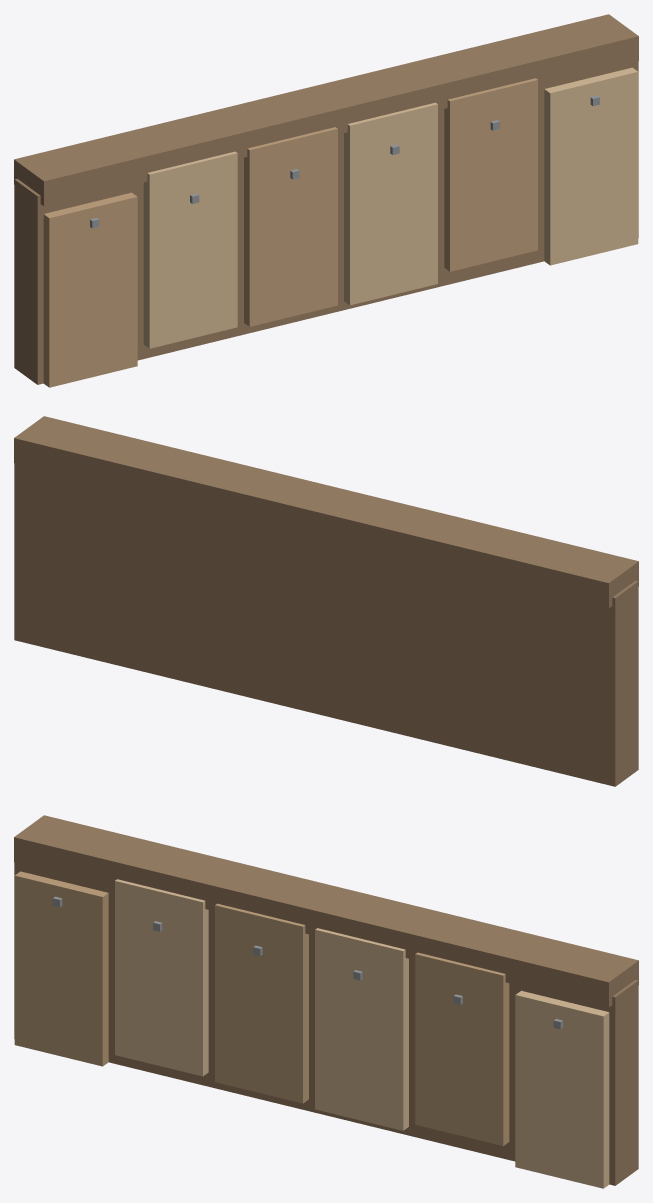
The model's file is low_wall.glb.
3 renders of one model, top to bottom at view 1: azimuth 30°, elevation 25°; view 2: azimuth 150°, elevation 25°; view 3: azimuth 330°, elevation 25°, orthographic.
Parts seen in each view (by area): view 1: low_wall; view 2: low_wall; view 3: low_wall.
Boxes of the visible parts, <box> form: low_wall: <box>14,14,638,387</box>; low_wall: <box>14,416,638,786</box>; low_wall: <box>14,815,638,1188</box>.
Bounding box in the file's own units: 3 × 0.98 × 0.3.
